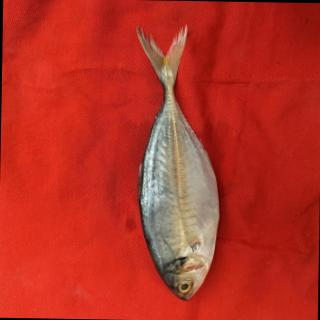Ikan: (130, 28, 230, 307)
